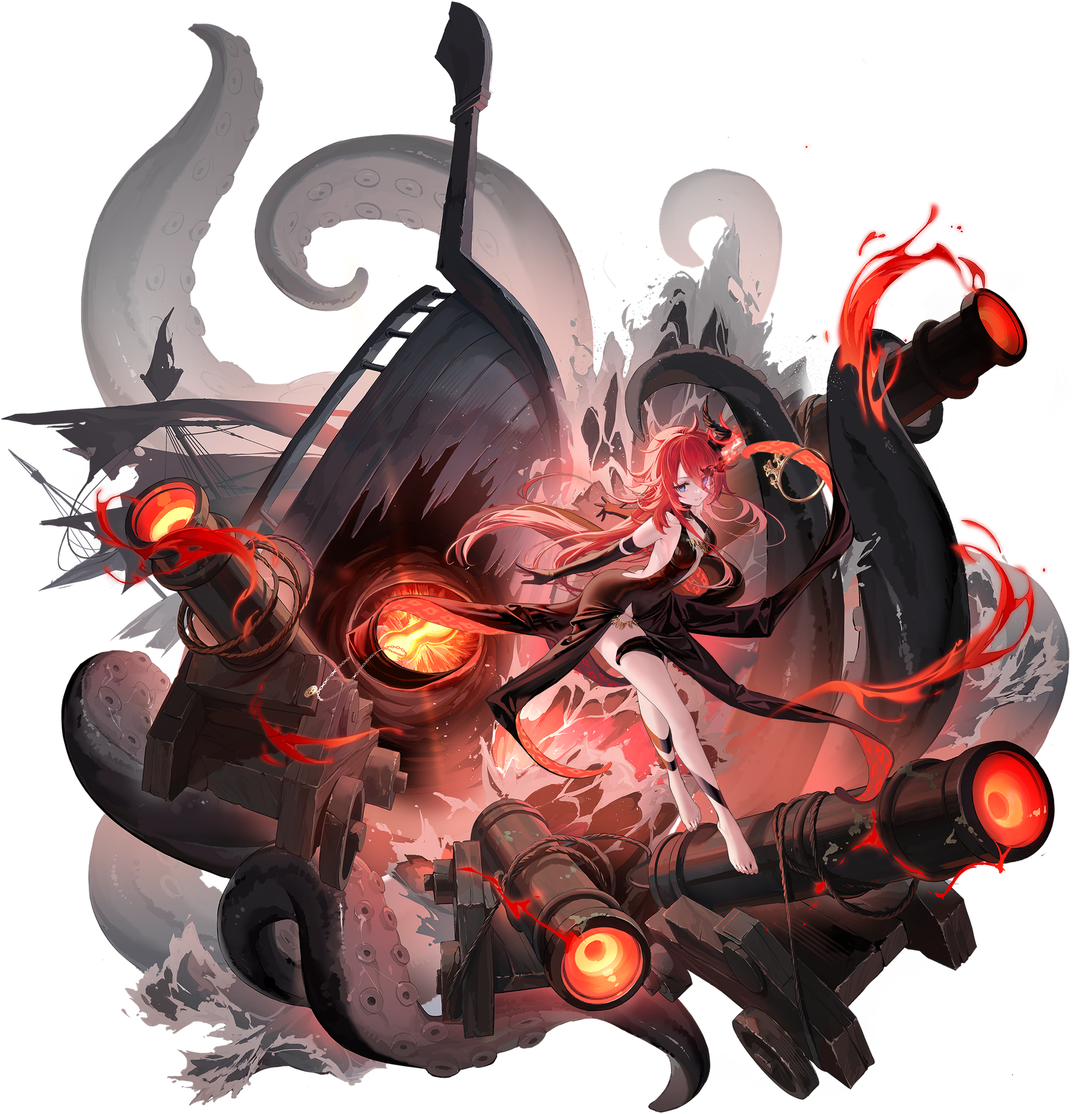person: (487, 379, 857, 963)
